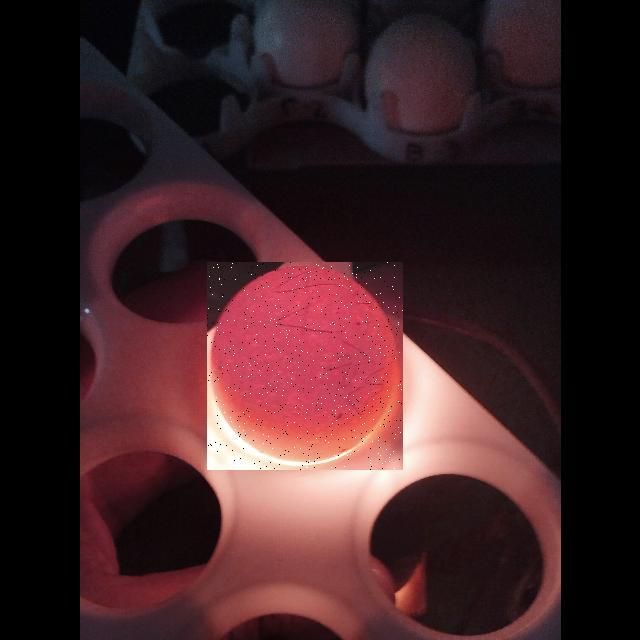Infertile: (207, 262, 403, 470)
